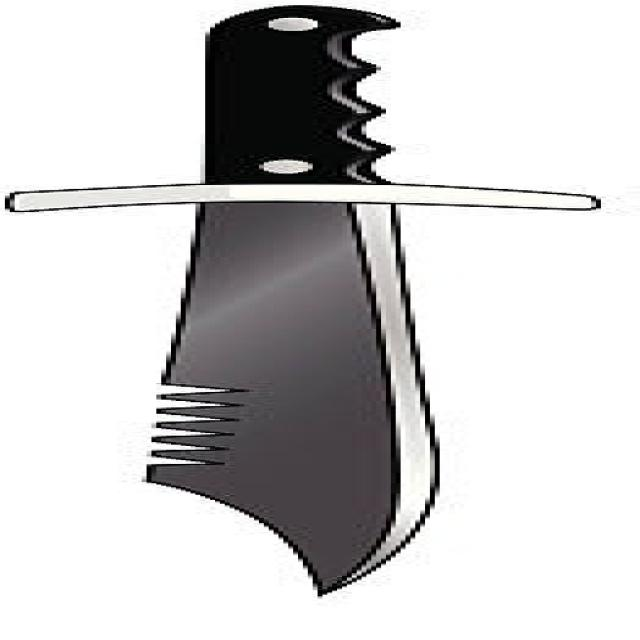knife: (81, 7, 640, 613)
